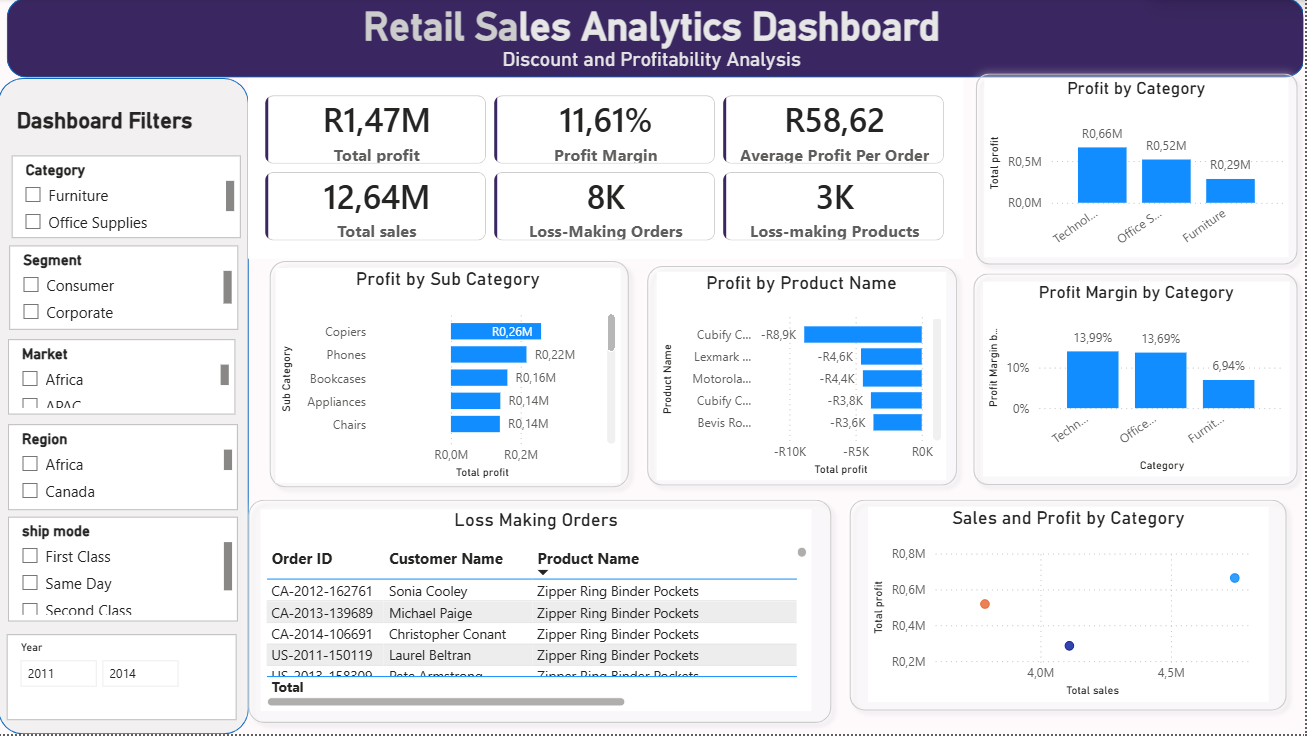

This screenshot's page, from the dashboard's own definition file:
{"tool":"powerbi","page":{"name":"Profitability Analysis","canvas":[1280,720],"ordinal":6},"visuals":[{"type":"shape","box":[8.7,0,1269.6,77.9],"z":0},{"type":"textbox","box":[10.1,0,1259.5,93.8],"z":1000},{"type":"shape","box":[0,77.9,245.3,642],"z":2000},{"type":"slicer","fields":{"Values":["superstore.category"]},"box":[13,154.4,223.6,80.8],"z":3000},{"type":"slicer","fields":{"Values":["superstore.segment"]},"box":[11.5,242.4,223.6,82.2],"z":4000},{"type":"slicer","fields":{"Values":["superstore.market"]},"box":[10.1,333.3,222.2,73.6],"z":5000},{"type":"slicer","fields":{"Values":["superstore.region"]},"box":[10.1,417,225.1,83.7],"z":6000},{"type":"slicer","fields":{"Values":["superstore.ship_mode"]},"box":[10.1,507.9,225.1,102.4],"z":7000},{"type":"slicer","fields":{"Values":["superstore.year"]},"box":[8.7,621.8,225.1,83.7],"z":8000},{"type":"textbox","box":[13,102.4,223.6,50.5],"z":9000},{"type":"cardVisual","fields":{"Data":["superstore.Total profit","superstore.Profit Margin","superstore.Average Profit Per Order","superstore.Total sales","superstore.Loss-Making Orders","superstore.Loss-making Products"]},"box":[245.1,78.8,700.2,176.8],"z":10000},{"type":"shape","box":[257.3,248.6,369.3,239.5],"z":11000},{"type":"shape","box":[626.1,253.1,321,232.8],"z":12000},{"type":"shape","box":[947.7,64.8,332.6,204.8],"z":13000},{"type":"shape","box":[236.3,481.4,588.2,236.3],"z":14000},{"type":"shape","box":[824.2,481.5,445.4,224.1],"z":15000},{"type":"shape","box":[945.2,260.5,335.1,225],"z":16000},{"type":"clusteredColumnChart","title":"Profit by Category","fields":{"Category":["superstore.Category"],"Y":["superstore.Total profit"]},"box":[964.8,78.3,297.6,175.1],"z":17000},{"type":"clusteredBarChart","title":"Profit by Sub Category","fields":{"Category":["superstore.Sub Category"],"Y":["superstore.Total profit"]},"box":[271.3,264.3,337.6,210.6],"z":18000},{"type":"tableEx","title":"Loss Making Orders","fields":{"Values":["superstore.Order ID","superstore.Customer Name","superstore.Product Name","superstore.Total sales","superstore.Total profit"]},"box":[256.8,500.1,539.2,197.8],"z":19000},{"type":"scatterChart","title":"Sales and Profit by Category","fields":{"Series":["superstore.Category"],"X":["superstore.Total sales"],"Y":["superstore.Total profit"]},"box":[851.2,497.8,392.1,190.8],"z":20000},{"type":"clusteredColumnChart","title":"Profit Margin  by Category","fields":{"Category":["superstore.Category"],"Y":["superstore.Profit Margin by Category"]},"box":[963.6,277.6,300.1,190.4],"z":21000},{"type":"clusteredBarChart","title":"Profit by Product Name","fields":{"Category":["superstore.Product Name"],"Y":["superstore.Total profit"]},"box":[644.9,267.5,283.4,203.9],"z":22000}]}

Visuals, with their boxes in screenshot pixels (x1, y1, x2, y2), scaled from the page's 1280x720 canvas onto the 1307x736 screenshot:
shape: 9:0:1305:80
textbox: 10:0:1296:96
shape: 0:80:250:735
slicer - superstore.category: 13:158:242:240
slicer - superstore.segment: 12:248:240:332
slicer - superstore.market: 10:341:237:416
slicer - superstore.region: 10:426:240:512
slicer - superstore.ship_mode: 10:519:240:624
slicer - superstore.year: 9:636:239:721
textbox: 13:105:242:156
cardVisual - superstore.Total profit x superstore.Profit Margin: 250:81:965:261
shape: 263:254:640:499
shape: 639:259:967:497
shape: 968:66:1306:276
shape: 241:492:842:734
shape: 842:492:1296:721
shape: 965:266:1306:496
"Profit by Category" clusteredColumnChart: 985:80:1289:259
"Profit by Sub Category" clusteredBarChart: 277:270:622:485
"Loss Making Orders" tableEx: 262:511:813:713
"Sales and Profit by Category" scatterChart: 869:509:1270:704
"Profit Margin  by Category" clusteredColumnChart: 984:284:1290:478
"Profit by Product Name" clusteredBarChart: 659:273:948:482
